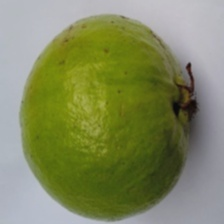guava: (32, 12, 199, 193)
